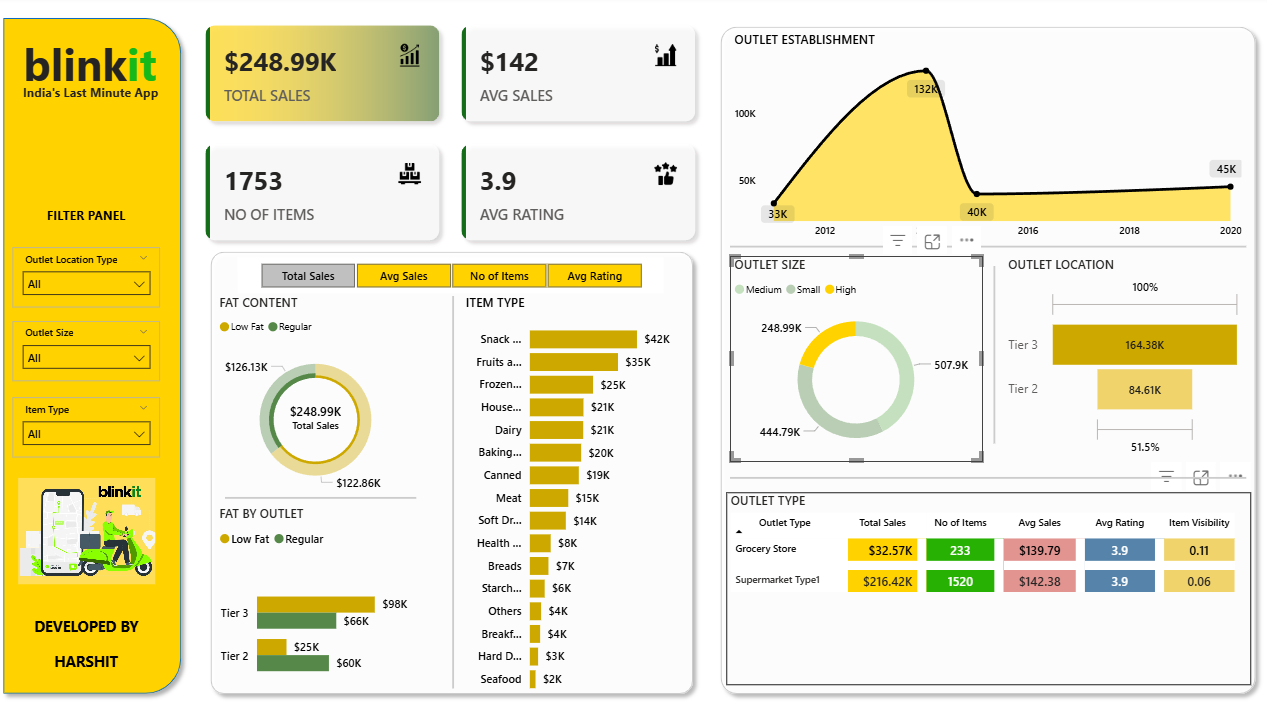

This screenshot's page, from the dashboard's own definition file:
{"tool":"powerbi","page":{"name":"Page 1","canvas":[1400,800],"ordinal":0},"visuals":[{"type":"shape","box":[0,15,212,755],"z":0},{"type":"textbox","box":[10.9,35.4,185.4,73.6],"z":1000},{"type":"textbox","box":[17.7,91.3,173.1,35.4],"z":2000},{"type":"cardVisual","fields":{"Data":["BlinkIT Grocery Data.Total Sales","BlinkIT Grocery Data.Avg Sales","BlinkIT Grocery Data.No of Items","BlinkIT Grocery Data.Avg Rating"]},"box":[212.7,15,569.9,269.9],"z":3000},{"type":"shape","box":[226.3,269.9,544,500.3],"z":4000},{"type":"donutChart","title":"FAT CONTENT","fields":{"Y":["BlinkIT Grocery Data.Total Sales"],"Category":["BlinkIT Grocery Data.Item Fat Content"]},"box":[239.9,324.5,219.5,230.4],"z":5000},{"type":"slicer","fields":{"Values":["Matrics.Matrics"]},"box":[264.5,284.9,464.9,39.5],"z":6000},{"type":"cardVisual","fields":{"Data":["BlinkIT Grocery Data.Total Sales"]},"box":[304,426.7,91.3,61.4],"z":6001},{"type":"clusteredBarChart","title":"FAT BY OUTLET","fields":{"Y":["BlinkIT Grocery Data.Total Sales"],"Category":["BlinkIT Grocery Data.Outlet Location Type"],"Series":["BlinkIT Grocery Data.Item Fat Content"]},"box":[239.9,554.9,219.5,230.4],"z":6002},{"type":"shape","box":[250.9,539.9,208.6,15],"z":6003},{"type":"shape","box":[490.8,327.2,17.7,428.1],"z":6004},{"type":"clusteredBarChart","title":"ITEM TYPE","fields":{"Category":["BlinkIT Grocery Data.Item Type"],"Y":["BlinkIT Grocery Data.Total Sales"]},"box":[508.5,324.5,248.1,445.8],"z":6005},{"type":"shape","box":[782.6,24.5,601.2,745.7],"z":6006},{"type":"lineChart","title":"OUTLET ESTABLISHMENT","fields":{"Category":["BlinkIT Grocery Data.Outlet Establishment Year"],"Y":["Sum(BlinkIT Grocery Data.Sales)"]},"box":[801.6,38.2,563.1,234.5],"z":6007},{"type":"shape","box":[801.6,257.7,563.1,31.4],"z":6008},{"type":"donutChart","title":"OUTLET SIZE","fields":{"Y":["Sum(BlinkIT Grocery Data.Sales)"],"Category":["BlinkIT Grocery Data.Outlet Size"]},"box":[801.6,283.6,275,225],"z":6009},{"type":"shape","box":[1083.9,294.5,12.3,193.6],"z":6010},{"type":"funnel","title":"OUTLET LOCATION","fields":{"Y":["Sum(BlinkIT Grocery Data.Sales)"],"Category":["BlinkIT Grocery Data.Outlet Location Type"]},"box":[1100.2,283.6,264.5,225],"z":6011},{"type":"pivotTable","title":"OUTLET TYPE","fields":{"Rows":["BlinkIT Grocery Data.Outlet Type"],"Values":["BlinkIT Grocery Data.Total Sales","BlinkIT Grocery Data.No of Items","BlinkIT Grocery Data.Avg Sales","BlinkIT Grocery Data.Avg Rating","Avg(BlinkIT Grocery Data.Item Visibility)"]},"box":[797.6,541.2,572.6,211.3],"z":6012},{"type":"shape","box":[801.6,509.9,563.1,31.4],"z":6013},{"type":"slicer","fields":{"Values":["BlinkIT Grocery Data.Outlet Location Type"]},"box":[19.1,274,160.9,65.4],"z":6014},{"type":"slicer","fields":{"Values":["BlinkIT Grocery Data.Outlet Size"]},"box":[19.1,354.5,160.9,65.4],"z":6015},{"type":"slicer","fields":{"Values":["BlinkIT Grocery Data.Item Type"]},"box":[19.1,437.6,160.9,65.4],"z":6016},{"type":"textbox","box":[19.1,225,160.9,32.7],"z":6017},{"type":"textbox","box":[19.1,670.8,160.9,72.3],"z":6018},{"type":"image","box":[20.5,520.8,159.5,125.4],"z":6019}]}

Visuals, with their boxes in screenshot pixels (x1, y1, x2, y2), scaled from the page's 1400x800 canvas onto the 1267x713 screenshot:
shape: {"x1": 0, "y1": 13, "x2": 192, "y2": 686}
textbox: {"x1": 10, "y1": 32, "x2": 178, "y2": 97}
textbox: {"x1": 16, "y1": 81, "x2": 173, "y2": 113}
cardVisual - BlinkIT Grocery Data.Total Sales x BlinkIT Grocery Data.Avg Sales: {"x1": 192, "y1": 13, "x2": 708, "y2": 254}
shape: {"x1": 205, "y1": 241, "x2": 697, "y2": 686}
"FAT CONTENT" donutChart: {"x1": 217, "y1": 289, "x2": 416, "y2": 495}
slicer - Matrics.Matrics: {"x1": 239, "y1": 254, "x2": 660, "y2": 289}
cardVisual - BlinkIT Grocery Data.Total Sales: {"x1": 275, "y1": 380, "x2": 358, "y2": 435}
"FAT BY OUTLET" clusteredBarChart: {"x1": 217, "y1": 495, "x2": 416, "y2": 700}
shape: {"x1": 227, "y1": 481, "x2": 416, "y2": 495}
shape: {"x1": 444, "y1": 292, "x2": 460, "y2": 673}
"ITEM TYPE" clusteredBarChart: {"x1": 460, "y1": 289, "x2": 685, "y2": 687}
shape: {"x1": 708, "y1": 22, "x2": 1252, "y2": 686}
"OUTLET ESTABLISHMENT" lineChart: {"x1": 725, "y1": 34, "x2": 1235, "y2": 243}
shape: {"x1": 725, "y1": 230, "x2": 1235, "y2": 258}
"OUTLET SIZE" donutChart: {"x1": 725, "y1": 253, "x2": 974, "y2": 453}
shape: {"x1": 981, "y1": 262, "x2": 992, "y2": 435}
"OUTLET LOCATION" funnel: {"x1": 996, "y1": 253, "x2": 1235, "y2": 453}
"OUTLET TYPE" pivotTable: {"x1": 722, "y1": 482, "x2": 1240, "y2": 671}
shape: {"x1": 725, "y1": 454, "x2": 1235, "y2": 482}
slicer - BlinkIT Grocery Data.Outlet Location Type: {"x1": 17, "y1": 244, "x2": 163, "y2": 302}
slicer - BlinkIT Grocery Data.Outlet Size: {"x1": 17, "y1": 316, "x2": 163, "y2": 374}
slicer - BlinkIT Grocery Data.Item Type: {"x1": 17, "y1": 390, "x2": 163, "y2": 448}
textbox: {"x1": 17, "y1": 201, "x2": 163, "y2": 230}
textbox: {"x1": 17, "y1": 598, "x2": 163, "y2": 662}
image: {"x1": 19, "y1": 464, "x2": 163, "y2": 576}
